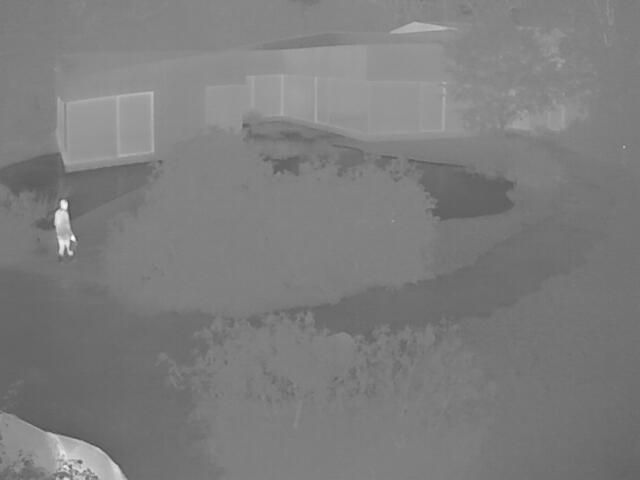person: (52, 198, 74, 257)
